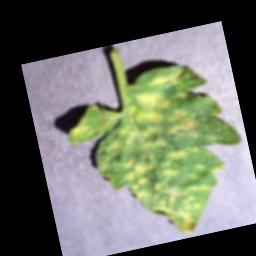Leaf_Mold: (58, 54, 256, 255)
